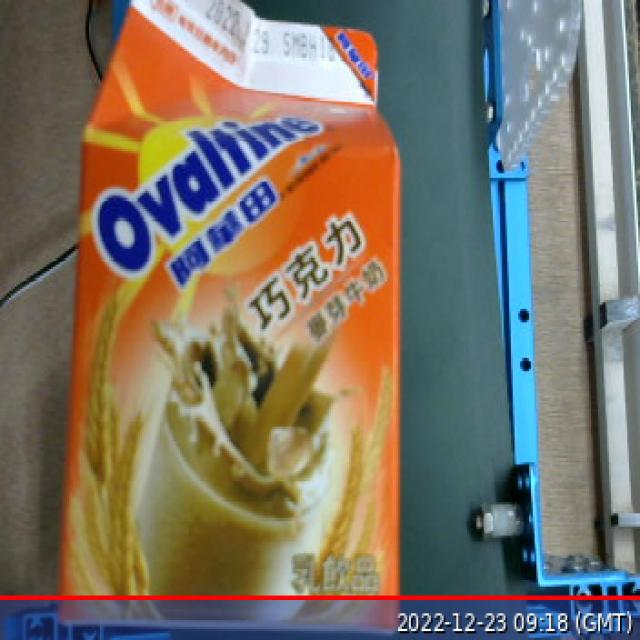non_white_jug: (65, 0, 421, 640)
